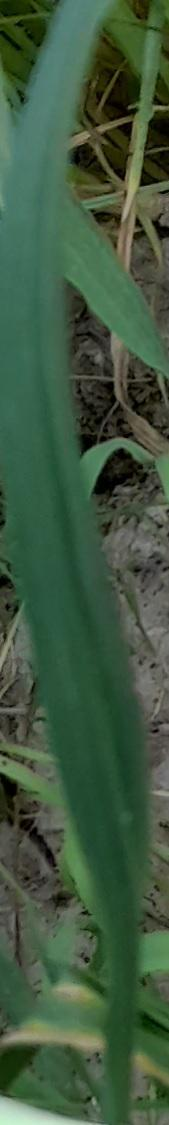Wheat: (9, 154, 55, 522), (44, 557, 118, 755), (77, 782, 134, 896)
